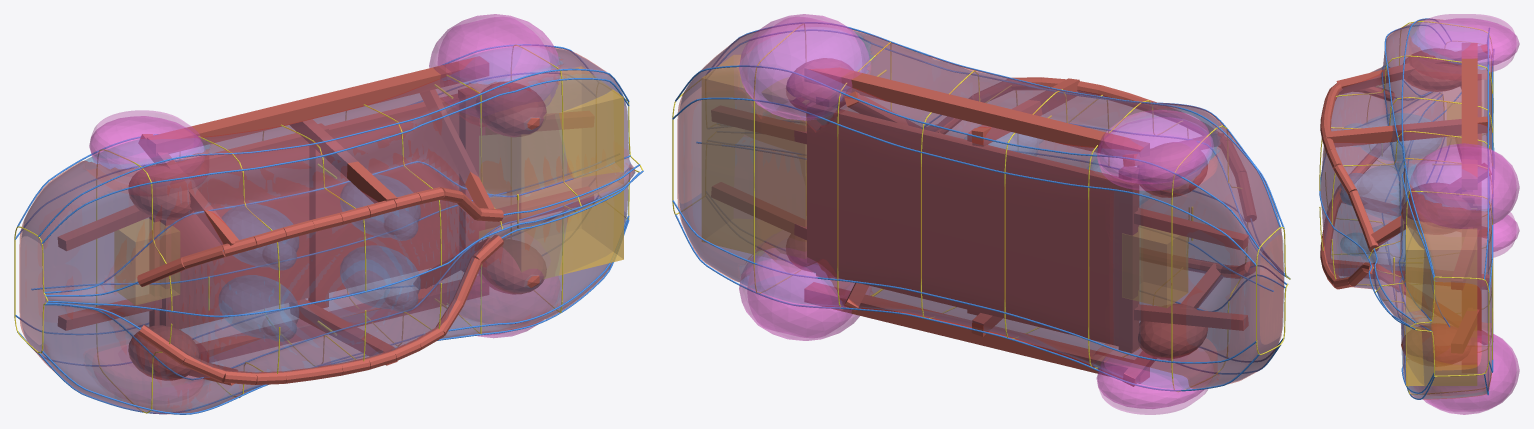
Rendered from modern_car_v2_track_engineering.glb.
3 renders of one model, left to right at view 1: azimuth 30°, elevation 25°; view 2: azimuth 150°, elevation 25°; view 3: azimuth 270°, elevation 25°, orthographic. The views are drawn at different scales.
Parts seen in each view (by area): view 1: semantic_surface, body_reference, floor_pan, engine_envelope, rocker_right, wheel_envelope_front_right, roof_rail_left, actual_tyre_sweep_front_right, roof_rail_right, actual_tyre_sweep_rear_right, rocker_left, wheel_envelope_rear_right (+38 smaller); view 2: semantic_surface, body_reference, floor_pan, engine_envelope, wheel_envelope_front_right, actual_tyre_sweep_front_right, wheel_envelope_front_left, rocker_right, actual_tyre_sweep_rear_right, rocker_left, wheel_envelope_rear_right, actual_tyre_sweep_front_left (+29 smaller); view 3: semantic_surface, body_reference, engine_envelope, wheel_envelope_front_right, actual_tyre_sweep_front_right, actual_tyre_sweep_rear_right, wheel_envelope_rear_right, wheel_envelope_front_left, rocker_right, b_pillar_right, roof_rail_right, actual_tyre_sweep_front_left (+38 smaller).
Boxes of the visible parts, x1,y1,x2,y2 form: semantic_surface: (20,47,635,412); body_reference: (19,47,634,414); floor_pan: (149,94,459,329); engine_envelope: (479,66,623,278); rocker_right: (146,56,488,155); wheel_envelope_front_right: (429,14,559,104); roof_rail_left: (137,235,503,384); actual_tyre_sweep_front_right: (438,17,549,80); roof_rail_right: (137,187,503,286); actual_tyre_sweep_rear_right: (90,110,203,168); rocker_left: (196,275,488,362); wheel_envelope_rear_right: (89,116,204,169); semantic_surface: (678,29,1284,388); body_reference: (677,29,1283,388); floor_pan: (807,102,1137,349); engine_envelope: (702,55,808,258); wheel_envelope_front_right: (739,14,870,120); actual_tyre_sweep_front_right: (747,17,861,117); wheel_envelope_front_left: (739,248,870,340); rocker_right: (804,61,1149,157); actual_tyre_sweep_rear_right: (1098,110,1211,190); rocker_left: (804,282,1149,383); wheel_envelope_rear_right: (1096,117,1213,184); actual_tyre_sweep_front_left: (747,257,852,337); semantic_surface: (1321,19,1493,398); body_reference: (1320,18,1493,399); engine_envelope: (1406,208,1477,385); wheel_envelope_front_right: (1410,143,1519,227); actual_tyre_sweep_front_right: (1414,146,1516,224); actual_tyre_sweep_rear_right: (1414,14,1516,72); wheel_envelope_rear_right: (1411,18,1519,68); wheel_envelope_front_left: (1423,330,1519,414); rocker_right: (1461,43,1477,189); b_pillar_right: (1326,116,1487,147); roof_rail_right: (1320,83,1394,252); actual_tyre_sweep_front_left: (1426,334,1516,411).
Bounding box in the file's own units: 4.42 × 2.24 × 1.58.
